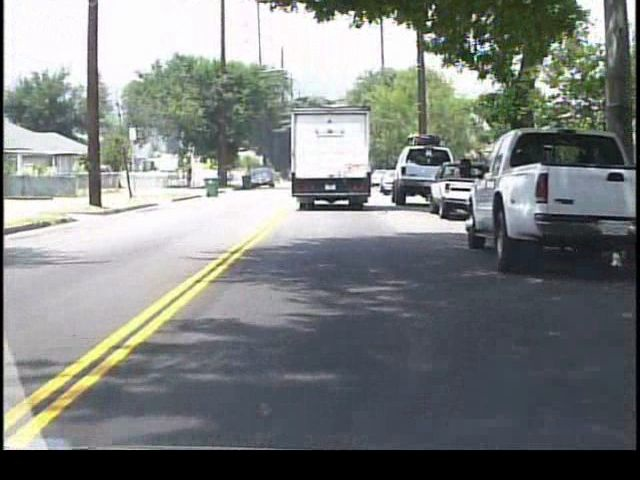person: (186, 163, 196, 187)
